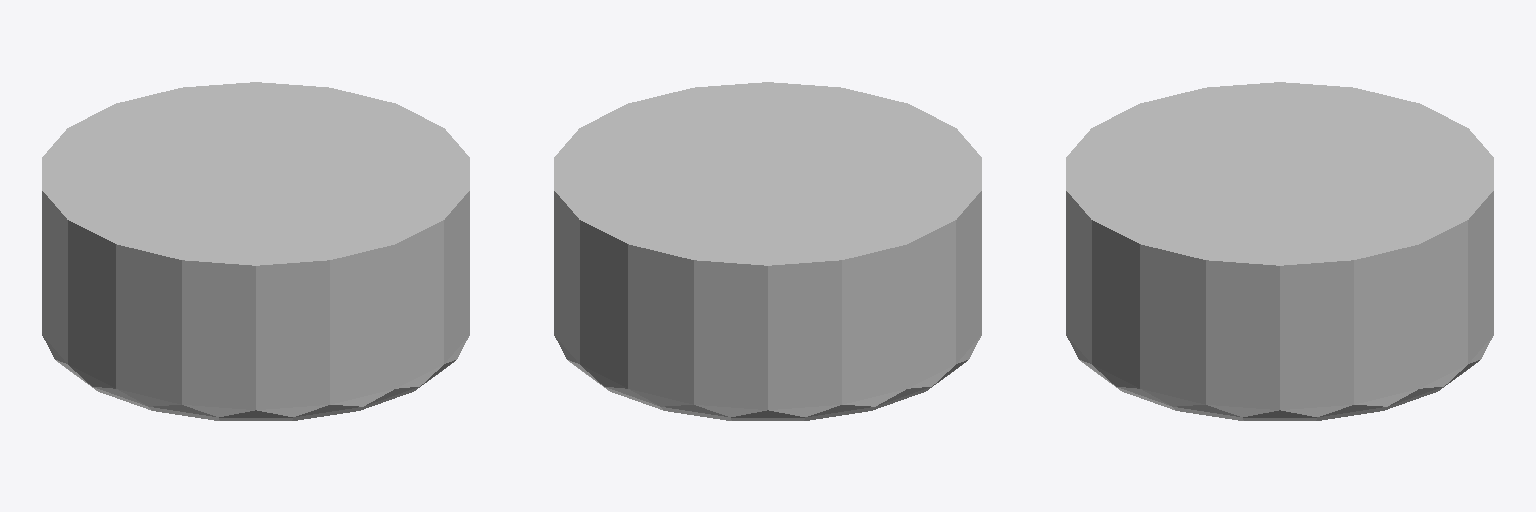
The model's file is WFB-Esc.obj.
3 views of the same model, side by side, from view 1: azimuth 30°, elevation 25°; view 2: azimuth 150°, elevation 25°; view 3: azimuth 270°, elevation 25° (orthographic).
Visible parts, largest first — view 1: WFB-Esc; view 2: WFB-Esc; view 3: WFB-Esc.
Part boxes in pixels (x1,y1,x2,y2): WFB-Esc: (42,82,469,420); WFB-Esc: (554,82,981,420); WFB-Esc: (1066,82,1493,420).
Size of the model in its own units: 6 by 2.5 by 5.92.